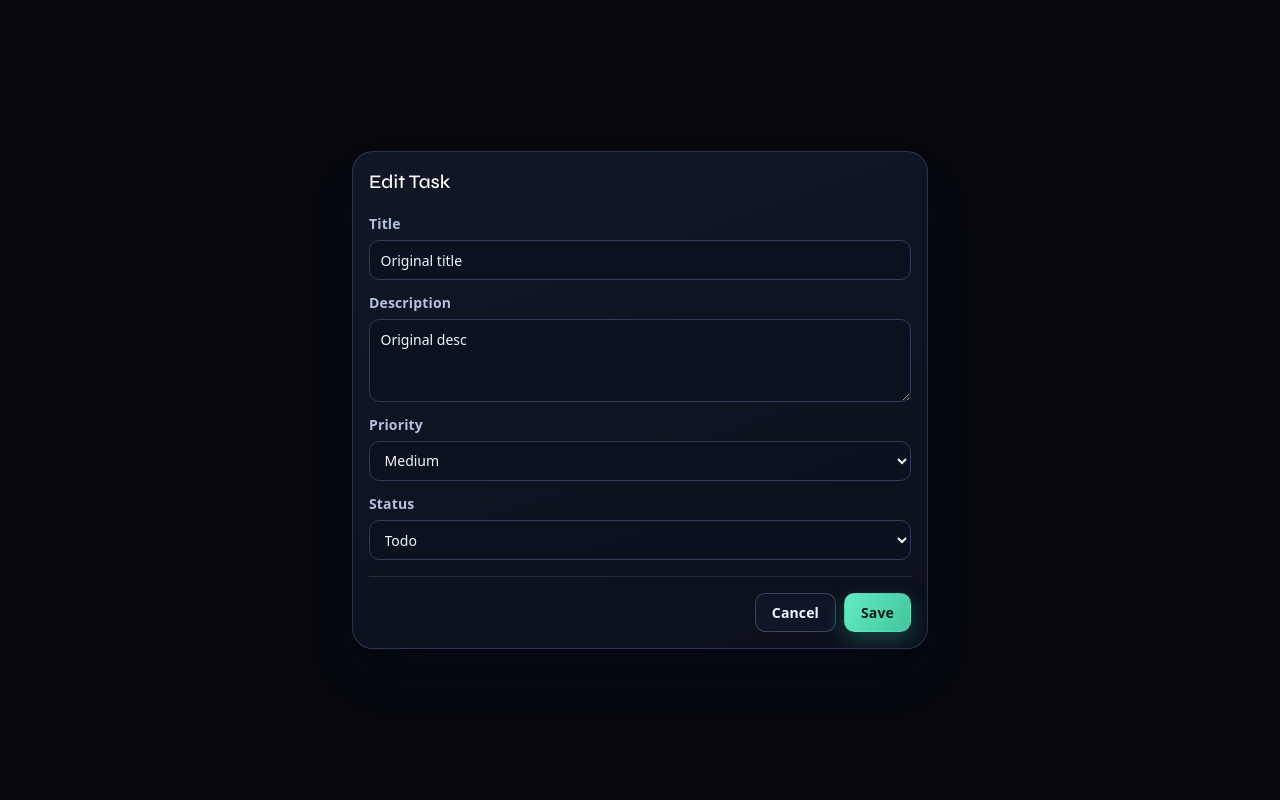
Test: TaskDetailDialog › shows error on save failure
Replace the text in the field showing "Original title" with "Changed" at (640, 260), box [369, 240, 911, 280]
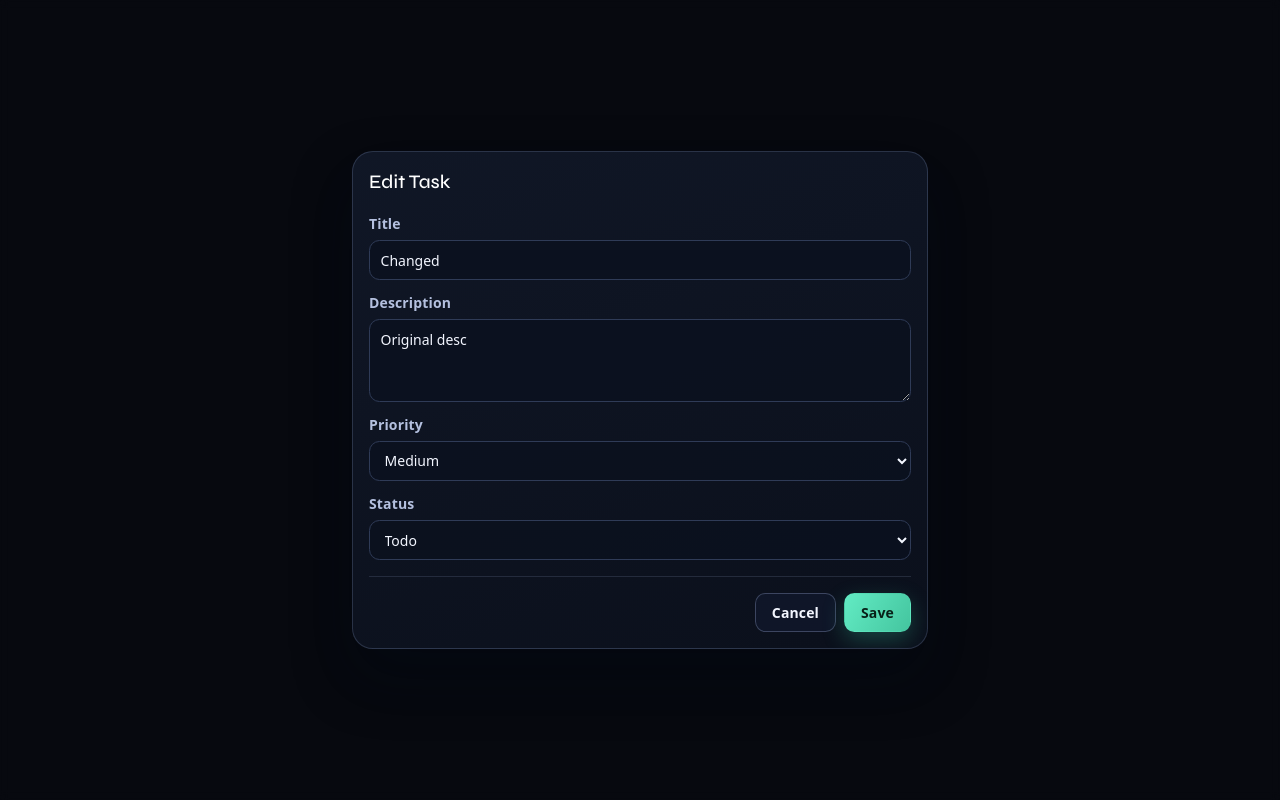
Click the button "Save" at (878, 612), box [844, 593, 911, 632]
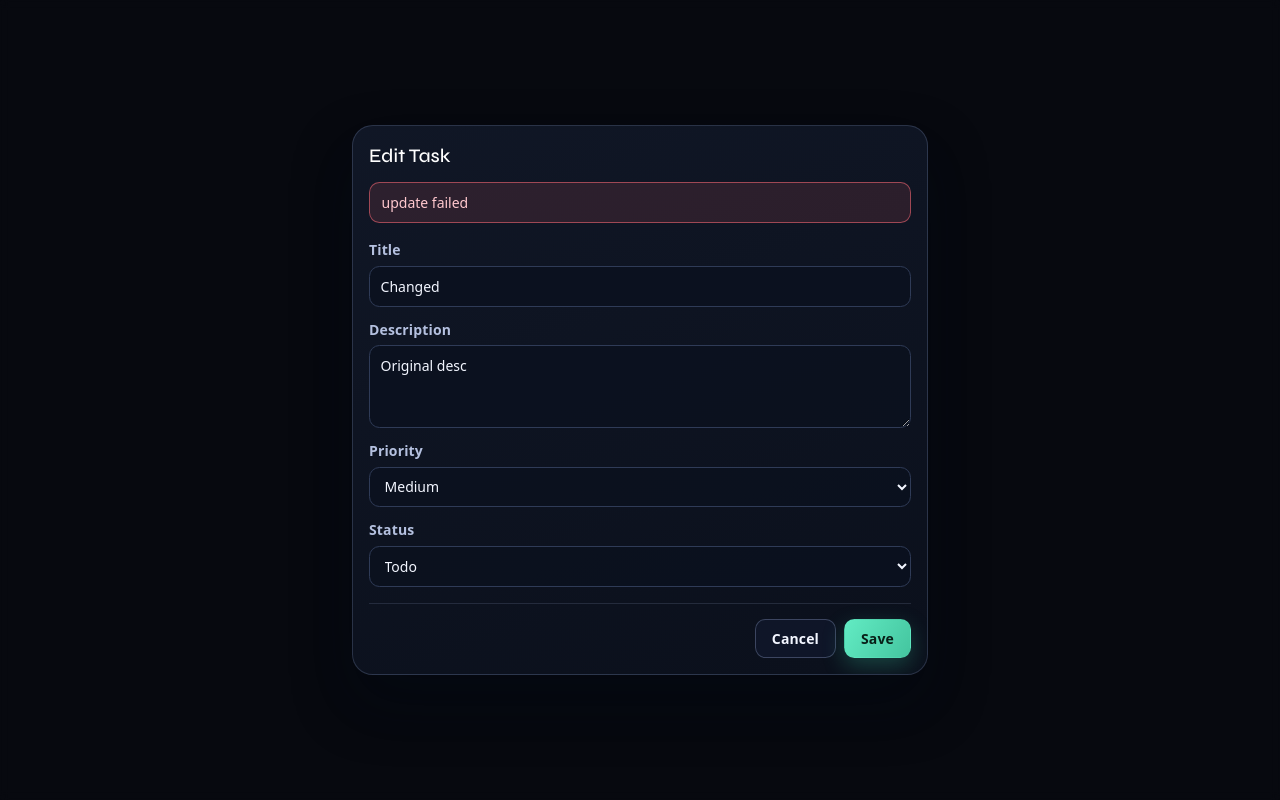
Expected: the text "update failed" is shown, [369, 182, 911, 223]
